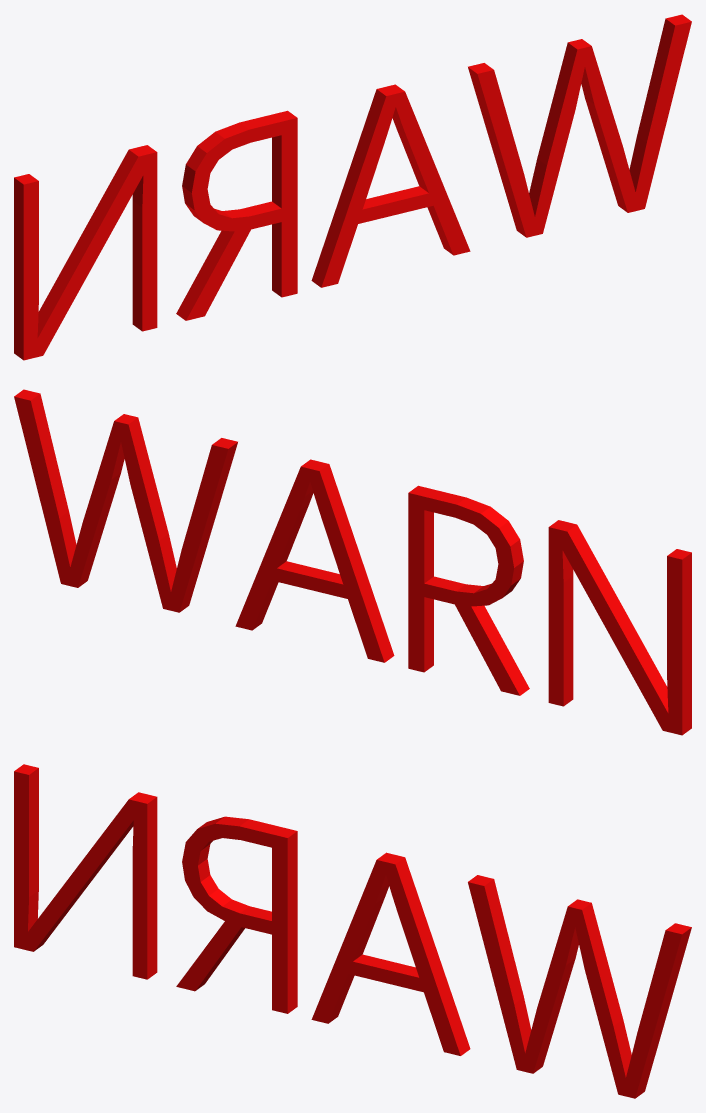
The model's file is warn.obj.
The picture shows the model from 3 angles, top to bottom: view 1: azimuth 30°, elevation 25°; view 2: azimuth 150°, elevation 25°; view 3: azimuth 330°, elevation 25°; orthographic projection.
Visible parts, largest first — view 1: object_4, object_1, object_2, object_3; view 2: object_4, object_1, object_2, object_3; view 3: object_4, object_1, object_2, object_3.
Part boxes in pixels (<box>): object_4: <box>468,14,691,237</box>; object_1: <box>14,145,157,360</box>; object_2: <box>176,110,297,320</box>; object_3: <box>311,84,470,287</box>; object_4: <box>14,389,237,612</box>; object_1: <box>548,520,691,735</box>; object_2: <box>408,485,529,695</box>; object_3: <box>235,459,394,662</box>; object_4: <box>468,875,691,1098</box>; object_1: <box>14,764,157,979</box>; object_2: <box>176,816,297,1013</box>; object_3: <box>311,852,470,1055</box>.
Bounding box in the file's own units: 1.98 × 0.4971 × 0.05.
Materials: 1 (1 with a texture image).
